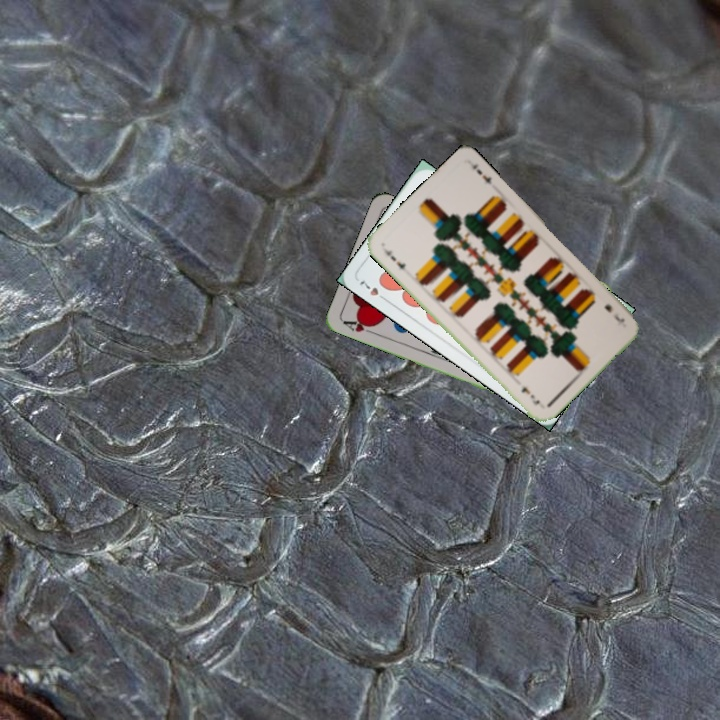E7: (380, 244, 408, 272), (600, 300, 627, 325)
H7: (355, 276, 390, 304)
HA: (339, 315, 378, 337)
